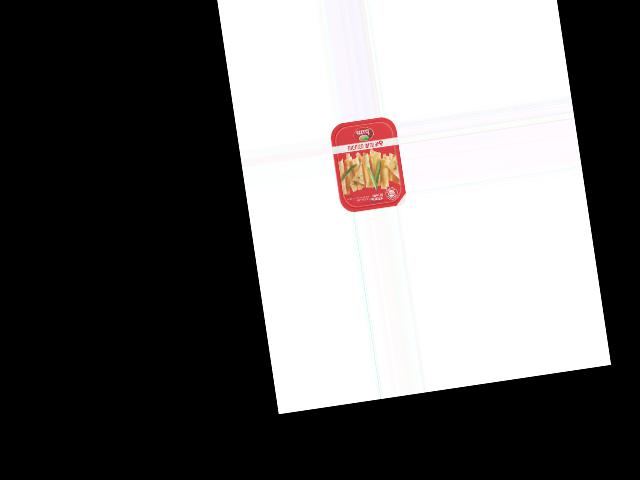cheese: (327, 115, 407, 214)
